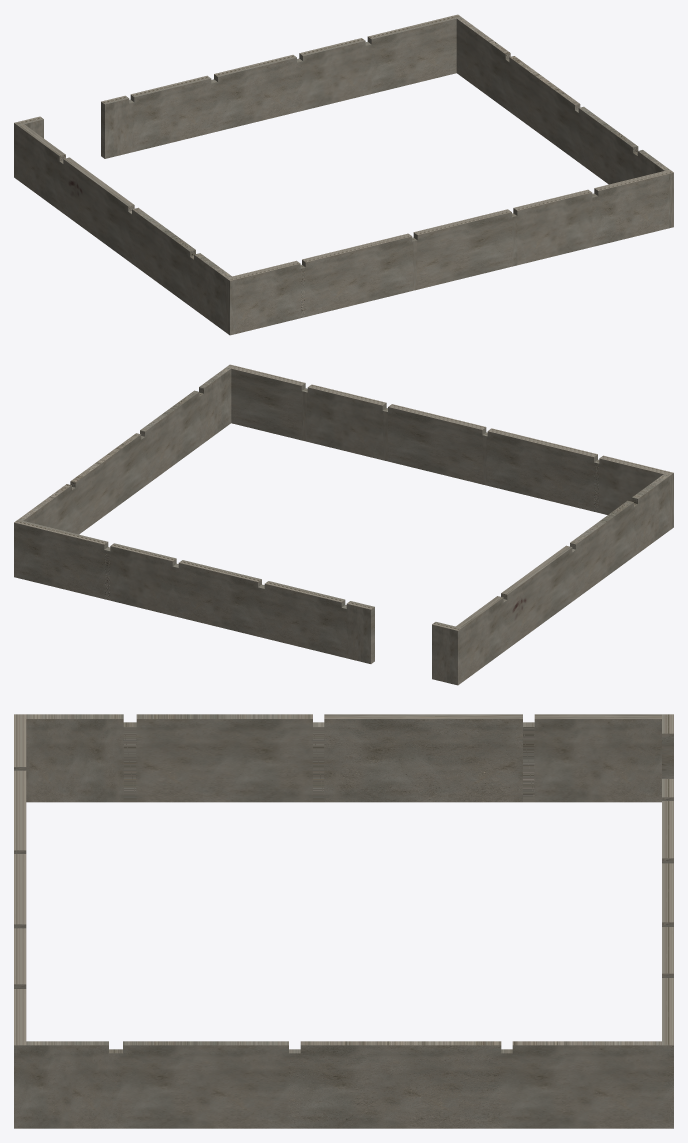
File: Blood painted house.fbx
The picture shows the model from 3 angles, top to bottom: view 1: azimuth 30°, elevation 25°; view 2: azimuth 150°, elevation 25°; view 3: azimuth 270°, elevation 25°; orthographic projection. The views are drawn at different scales.
Visible parts, largest first — view 1: polySurface5__1__1; view 2: polySurface5__1__1; view 3: polySurface5__1__1.
Part boxes in pixels (x1,y1,x2,y2): polySurface5__1__1: [14, 14, 673, 335]; polySurface5__1__1: [14, 364, 673, 685]; polySurface5__1__1: [14, 714, 673, 1128].
Size of the model in its own units: 3137 by 369 by 2643.
Materials: 2 (2 with a texture image).
